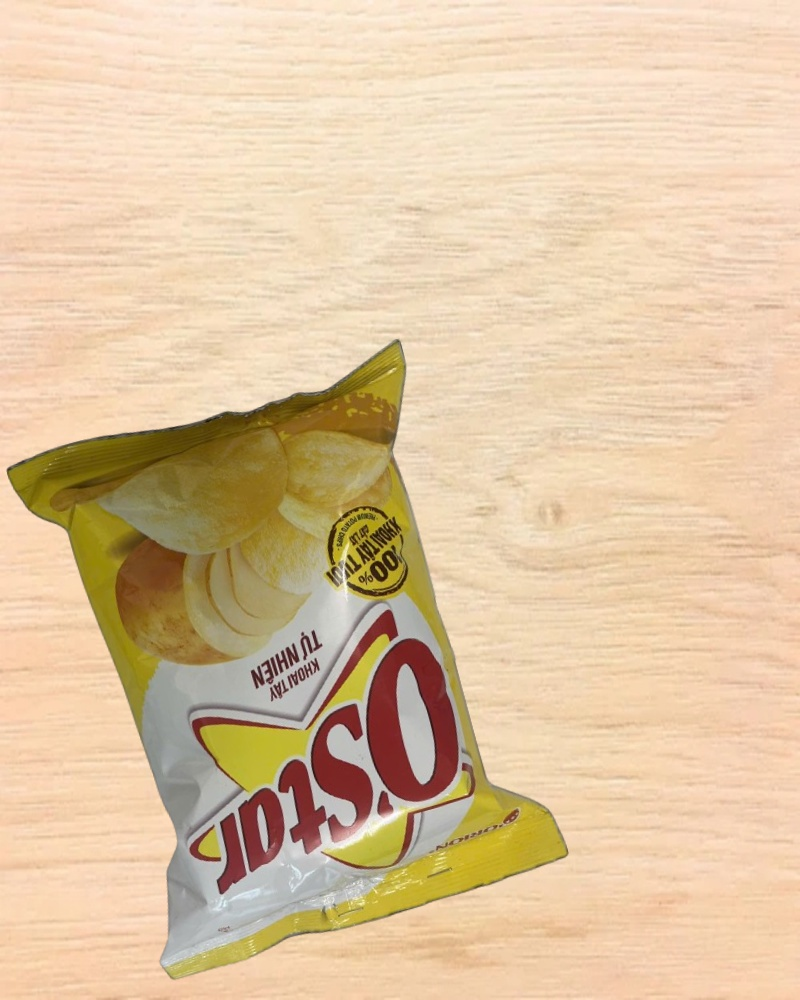Snack cua: (7, 338, 570, 980)
